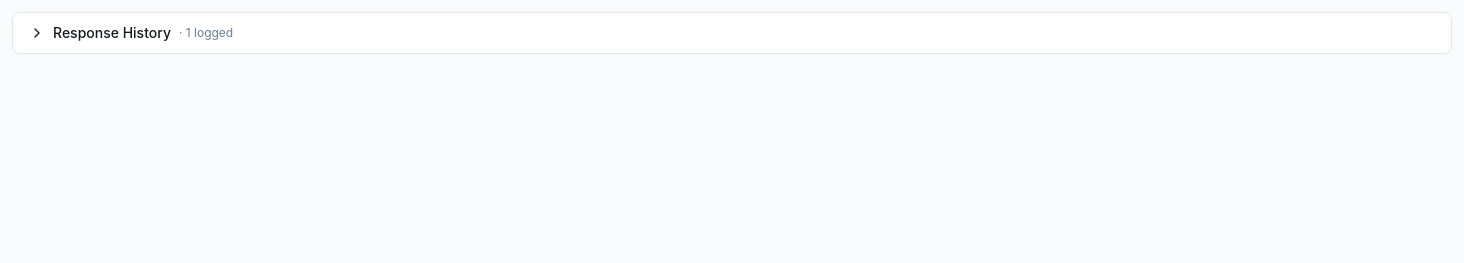
ResponseHistoryPanel — table, filters and paging › renders a no-activity row with its reason and no personnel figure
Click the button "Response History · 1 logged". click: (112, 32)
box: x1=13 y1=13 x2=1451 y2=53
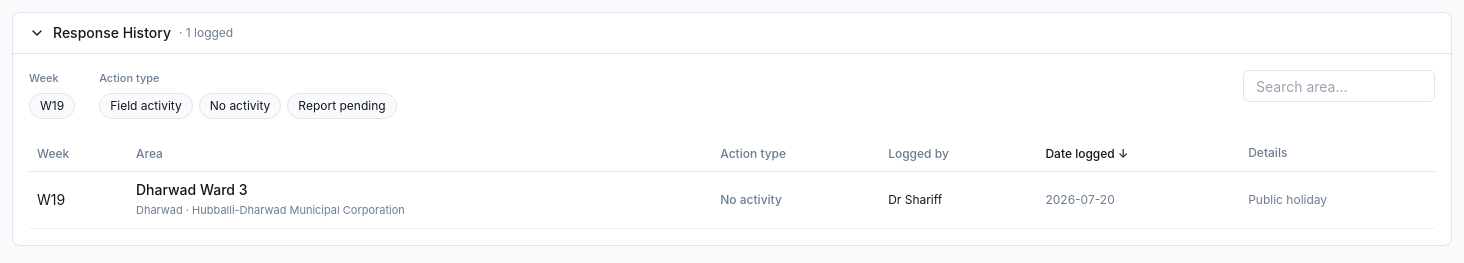
Check: the text "No activity" is shown, box x1=712 y1=171 x2=880 y2=228
Check: the text "Public holiday" is shown, box x1=1240 y1=171 x2=1435 y2=228
